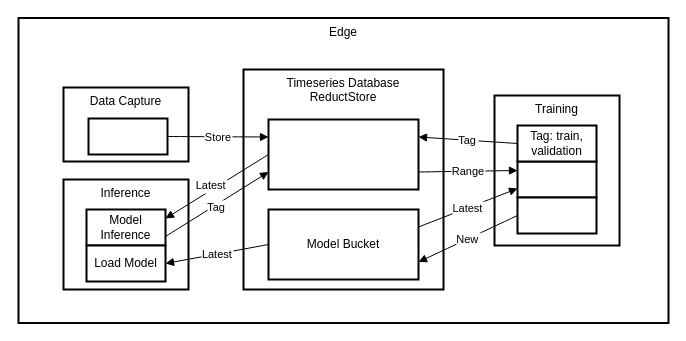
Image size: 686x341. Some labels were removed from this diagram. Each missing label, with the centre of its shape:
Data Bucket: the point at 343,154
Images: the point at 127,136
Store New Model: the point at 556,215
Train: the point at 556,179
